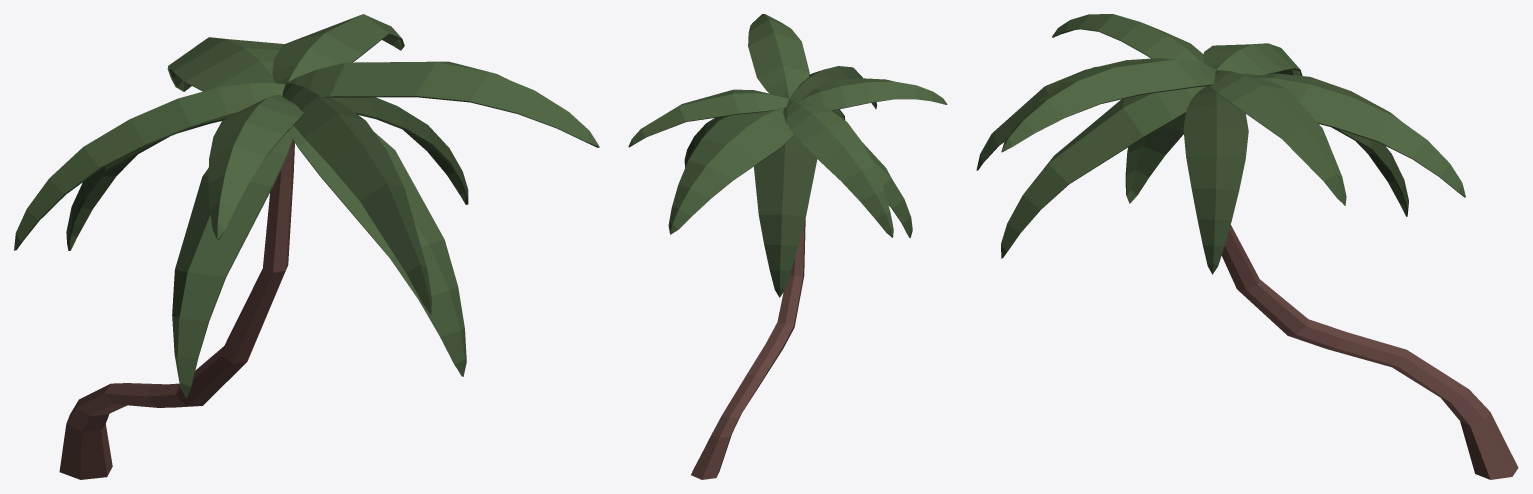
File: PalmTree_2.gltf
The picture shows the model from 3 angles, left to right: view 1: azimuth 30°, elevation 25°; view 2: azimuth 150°, elevation 25°; view 3: azimuth 270°, elevation 25°; orthographic projection. The views are drawn at different scales.
Parts seen in each view (by area): view 1: PalmTree_2; view 2: PalmTree_2; view 3: PalmTree_2.
Boxes of the visible parts, x1,y1,x2,y2 form: PalmTree_2: (14, 14, 599, 479); PalmTree_2: (628, 14, 947, 479); PalmTree_2: (976, 14, 1518, 479).
Size of the model in its own units: 2.32 by 2.91 by 3.18.
